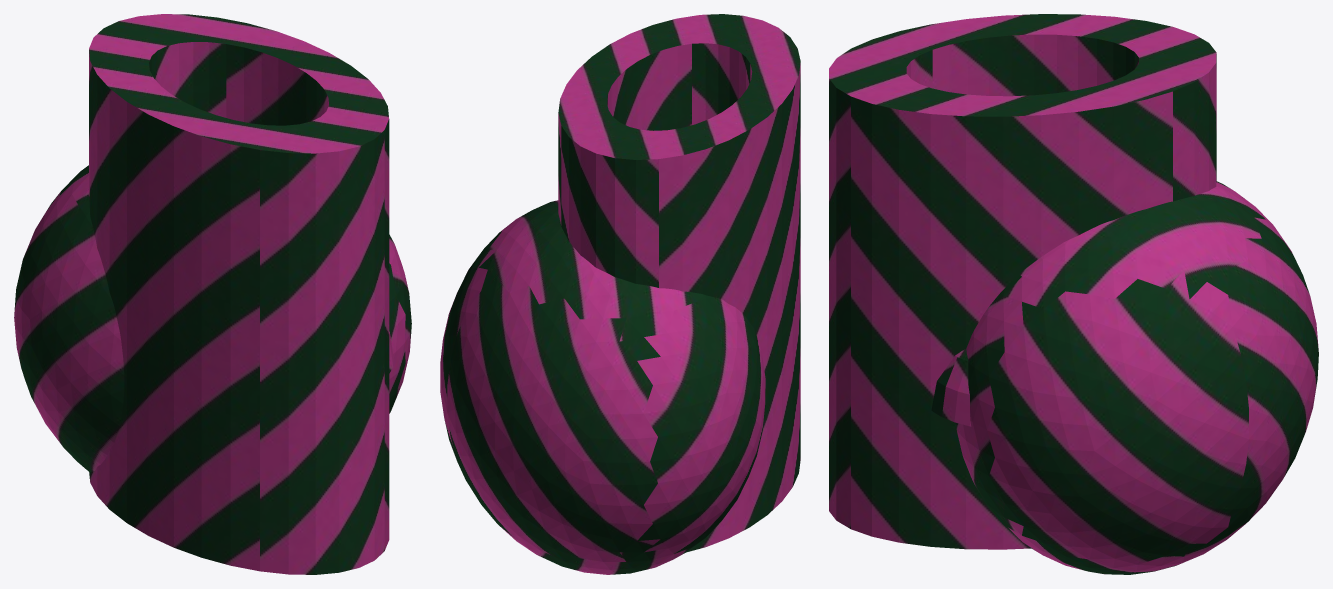
3 renders of one model, left to right at view 1: azimuth 30°, elevation 25°; view 2: azimuth 150°, elevation 25°; view 3: azimuth 270°, elevation 25°, orthographic. The views are drawn at different scales.
Parts seen in each view (by area): view 1: geometry_0; view 2: geometry_0; view 3: geometry_0.
Boxes of the visible parts, x1,y1,x2,y2 form: geometry_0: (14,14,411,574); geometry_0: (440,14,800,574); geometry_0: (829,14,1318,574).
Size of the model in its own units: 1.29 by 1.76 by 1.64.
Materials: 1 (1 with a texture image).
